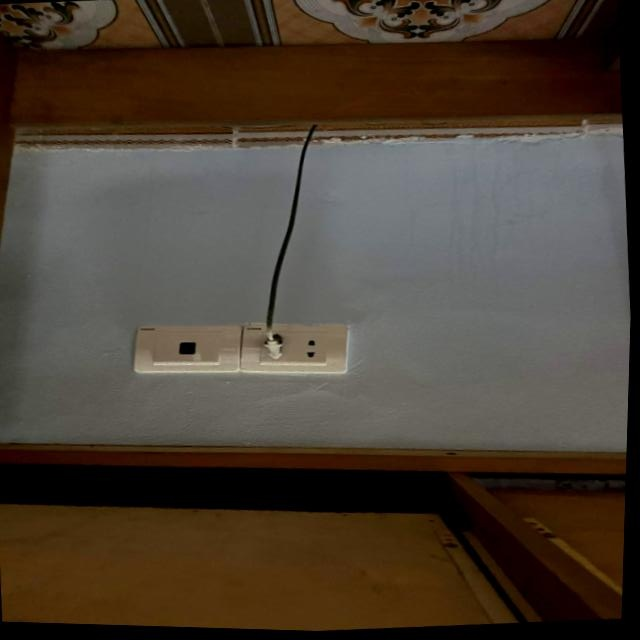outlet: (238, 315, 353, 380), (131, 317, 246, 379)
